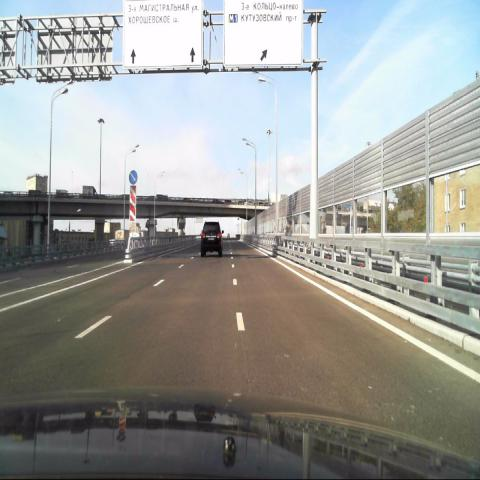4_2_1: (129, 168, 137, 184)
